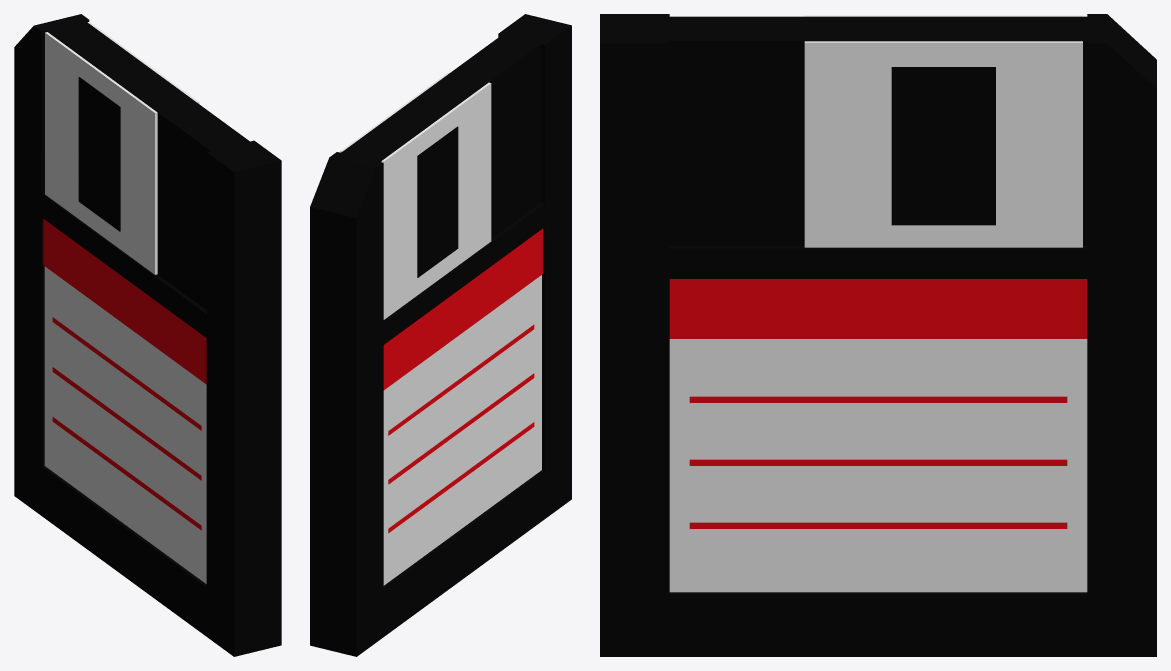
The model's file is flopdisk.gltf.
3 views of the same model, side by side, from view 1: azimuth 30°, elevation 25°; view 2: azimuth 150°, elevation 25°; view 3: azimuth 270°, elevation 25° (orthographic). The views are drawn at different scales.
Visible parts, largest first — view 1: Cube; view 2: Cube; view 3: Cube.
Part boxes in pixels (bbox=[...]): Cube: bbox=[14, 14, 281, 656]; Cube: bbox=[310, 14, 571, 656]; Cube: bbox=[600, 14, 1156, 656].
Size of the model in its own units: 0.2 by 1.94 by 1.6.
